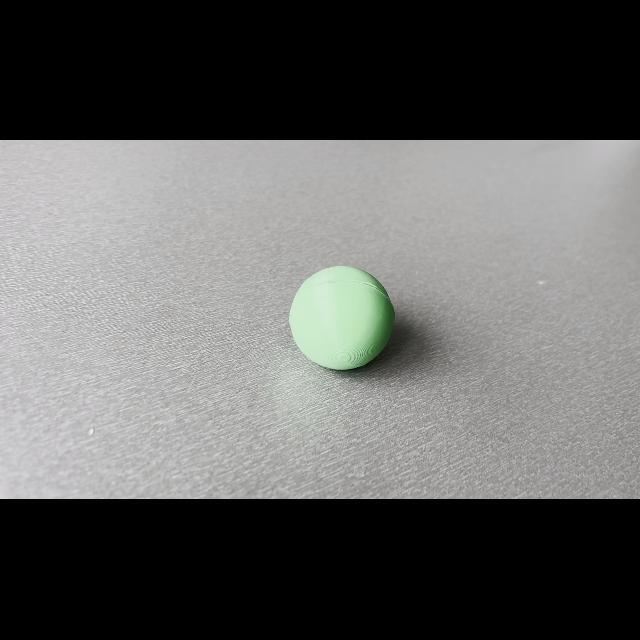objects: (282, 256, 406, 376)
